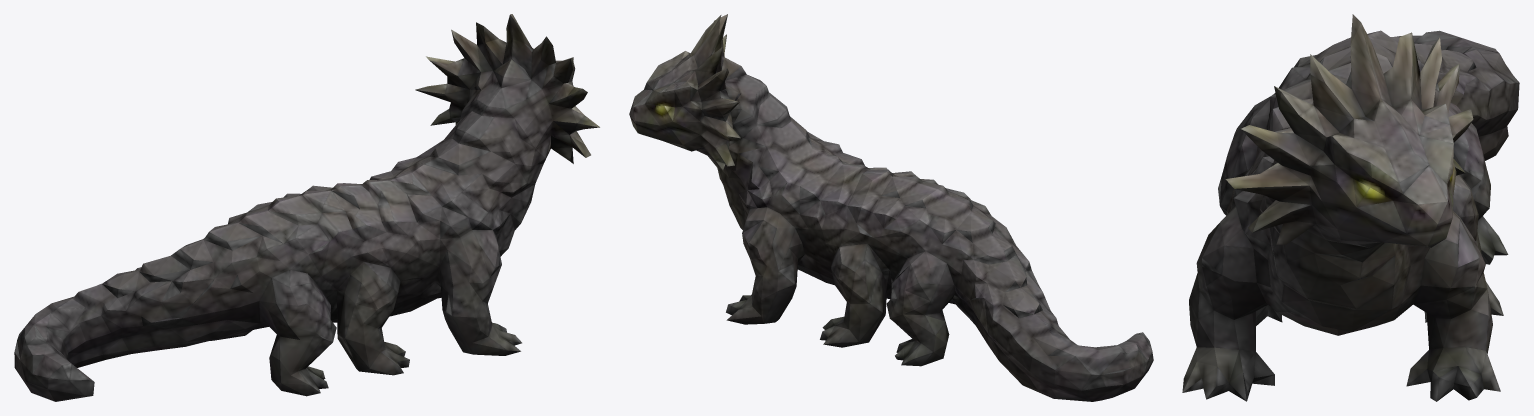
Rendered from foe_basilisk.glb.
3 renders of one model, left to right at view 1: azimuth 30°, elevation 25°; view 2: azimuth 150°, elevation 25°; view 3: azimuth 270°, elevation 25°, orthographic. The views are drawn at different scales.
Parts seen in each view (by area): view 1: tripo_node_e2fed6e8-b4d9-4401-9d67-ef3b0cc9f11c.001; view 2: tripo_node_e2fed6e8-b4d9-4401-9d67-ef3b0cc9f11c.001; view 3: tripo_node_e2fed6e8-b4d9-4401-9d67-ef3b0cc9f11c.001.
Boxes of the visible parts, left/top/right/bottom form: tripo_node_e2fed6e8-b4d9-4401-9d67-ef3b0cc9f11c.001: left=14, top=14, right=599, bottom=401; tripo_node_e2fed6e8-b4d9-4401-9d67-ef3b0cc9f11c.001: left=629, top=14, right=1153, bottom=401; tripo_node_e2fed6e8-b4d9-4401-9d67-ef3b0cc9f11c.001: left=1182, top=14, right=1519, bottom=401.
Size of the model in its own units: 0.9964 by 0.5015 by 0.3654.
1 material, 1 textured.
